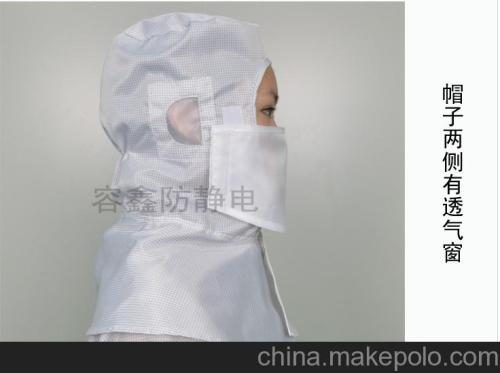yes_mask: (96, 6, 291, 233)
